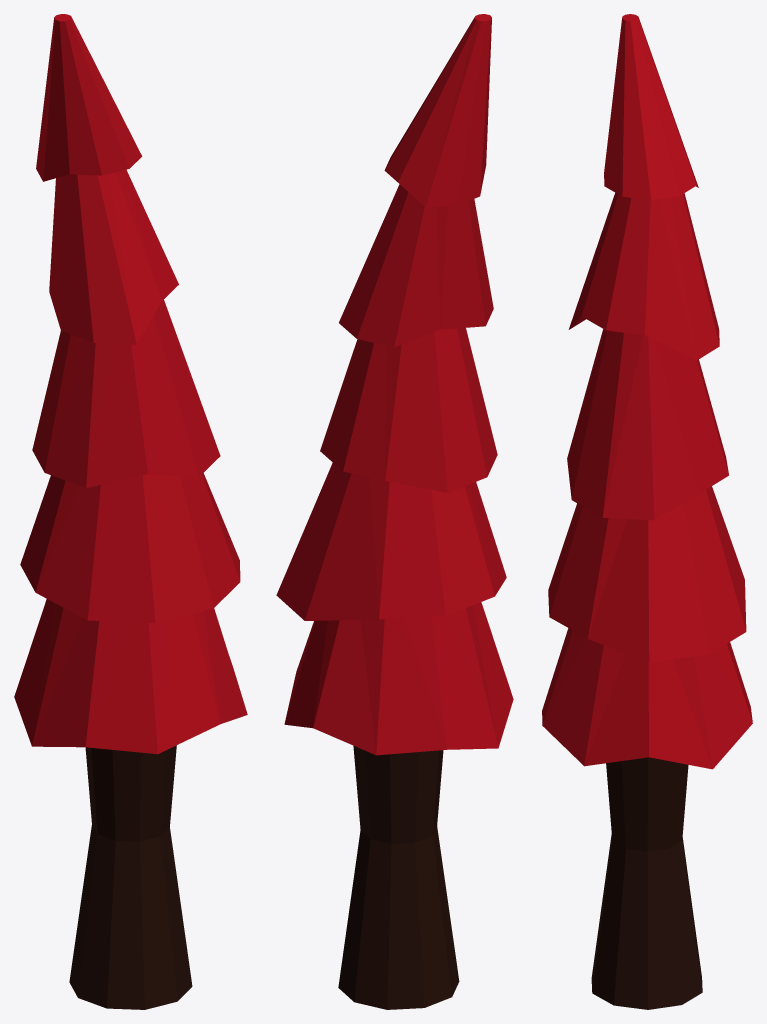
The model's file is t4-purple.obj.
The picture shows the model from 3 angles, left to right: view 1: azimuth 30°, elevation 25°; view 2: azimuth 150°, elevation 25°; view 3: azimuth 270°, elevation 25°; orthographic projection. The views are drawn at different scales.
Visible parts, largest first — view 1: t4-purple_Cylinder.031; view 2: t4-purple_Cylinder.031; view 3: t4-purple_Cylinder.031.
Boxes of the visible parts, left/top/right/bottom form: t4-purple_Cylinder.031: left=14, top=14, right=247, bottom=1009; t4-purple_Cylinder.031: left=276, top=14, right=513, bottom=1009; t4-purple_Cylinder.031: left=542, top=14, right=752, bottom=1009.
Bounding box in the file's own units: 2.24 × 10.09 × 2.07.
